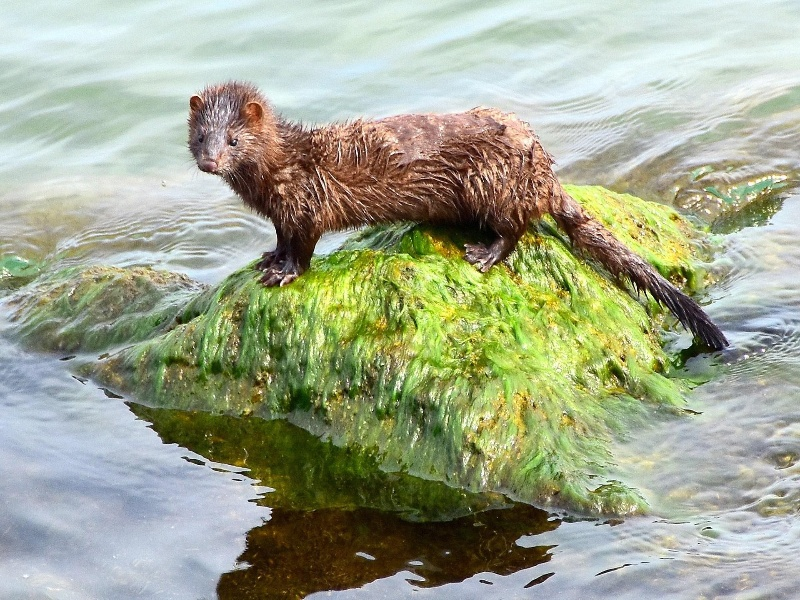minkish: (186, 78, 728, 356)
